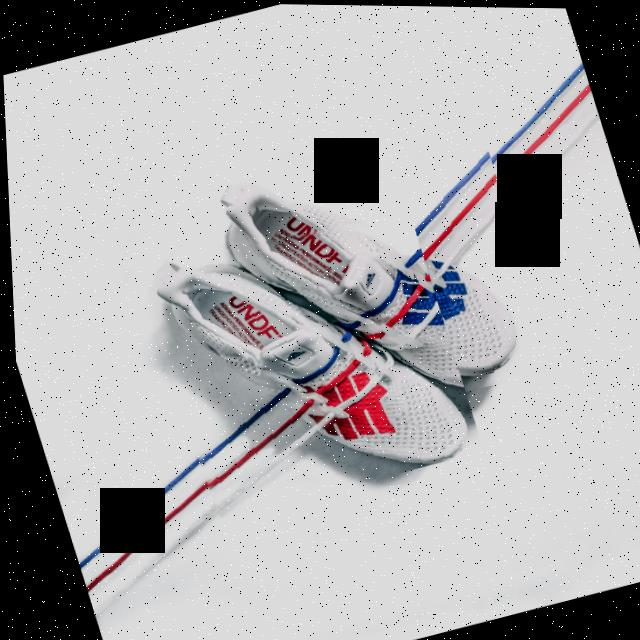shoe: (182, 113, 558, 451), (127, 194, 482, 523)
